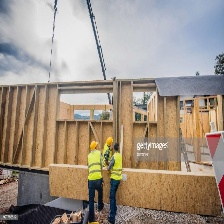person: (88, 140, 105, 223), (110, 144, 126, 224)
vest: (89, 149, 102, 181), (111, 151, 124, 181)
